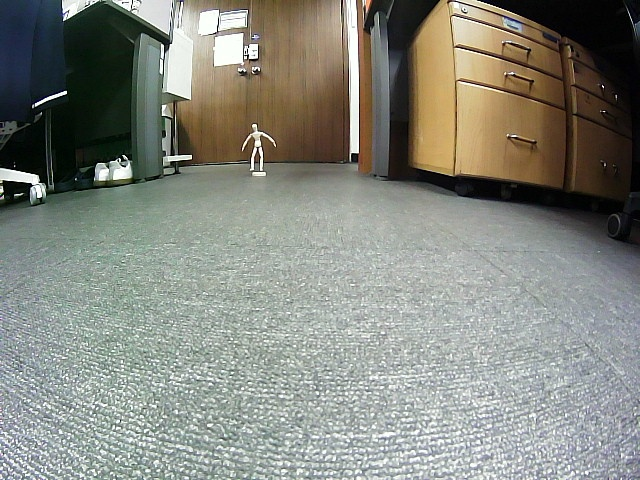person: (242, 123, 276, 172)
